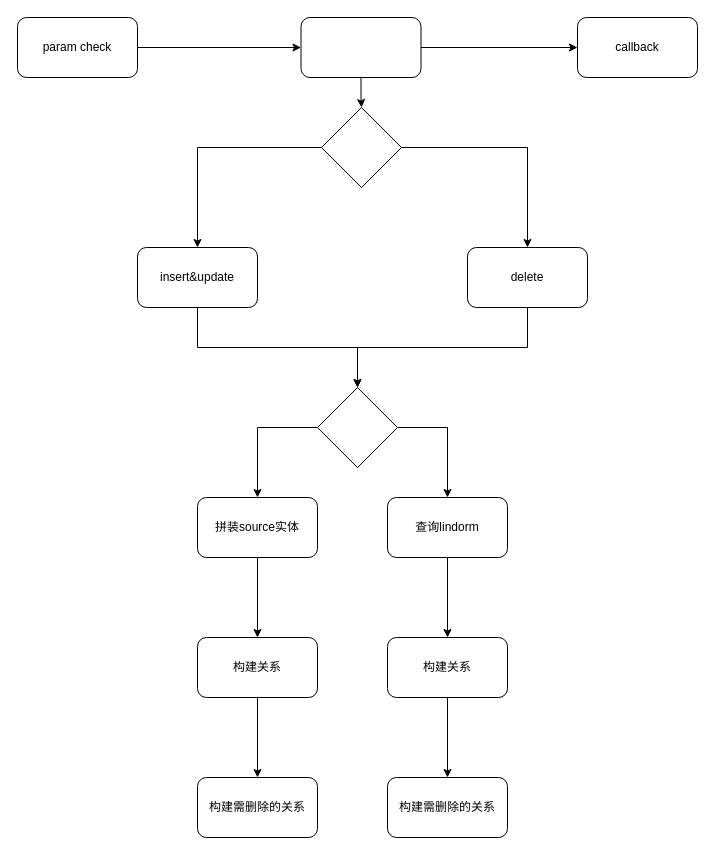
The diagram is 715 pixels wide and 855 high, and some of its shapes have lost their labels. The shapes that lost their labels are listed below. From the top down, each one's centre as x and y in pixels, then its label:
(x=360, y=47): wrapper
(x=361, y=147): op
(x=357, y=427): isArn
